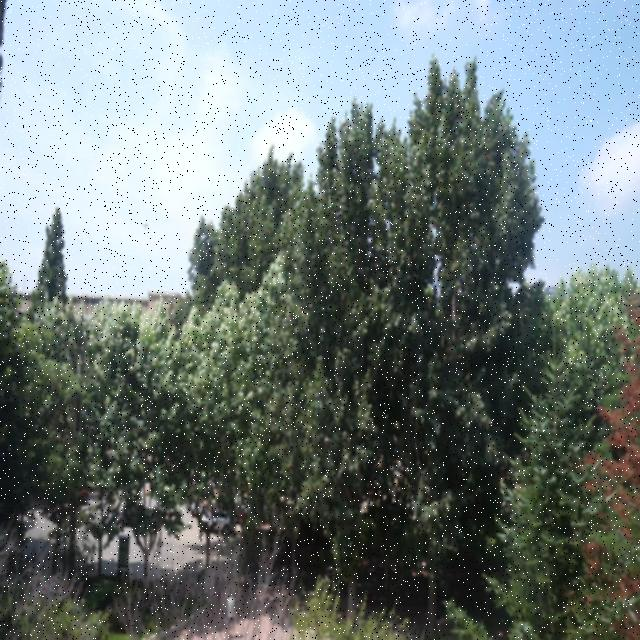UAV: (142, 224, 149, 228)
